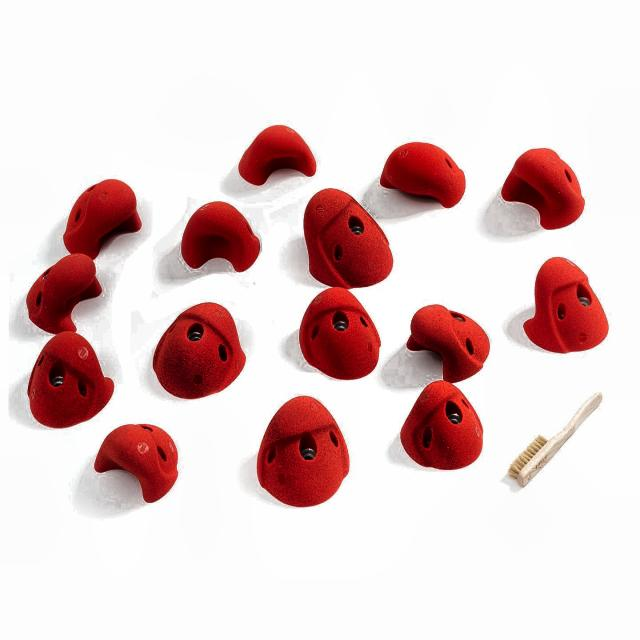Hold: (256, 395, 360, 500), (146, 304, 250, 399), (297, 188, 394, 287), (293, 288, 384, 380), (519, 258, 607, 352), (27, 338, 117, 428), (90, 421, 192, 500), (395, 301, 489, 383), (503, 144, 587, 234), (397, 387, 482, 471), (62, 180, 144, 260), (377, 134, 465, 208), (26, 255, 106, 336), (188, 200, 262, 275), (236, 124, 318, 183)
